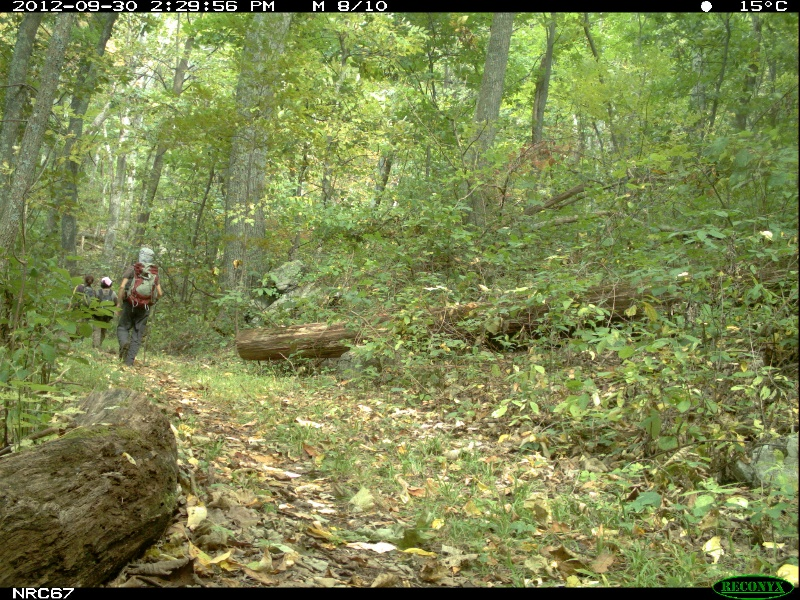human: (115, 241, 164, 358), (92, 274, 121, 352), (71, 269, 95, 347)
human legs: (117, 296, 154, 371), (69, 308, 96, 355), (88, 306, 113, 356)
